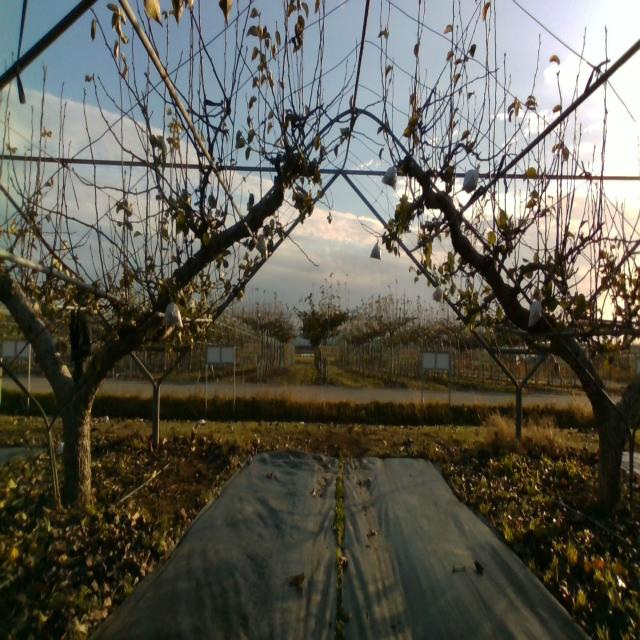pearbags: (161, 297, 183, 329), (462, 165, 479, 195), (528, 301, 543, 326), (382, 166, 399, 188), (256, 233, 268, 260), (432, 284, 444, 304), (370, 240, 381, 260)
